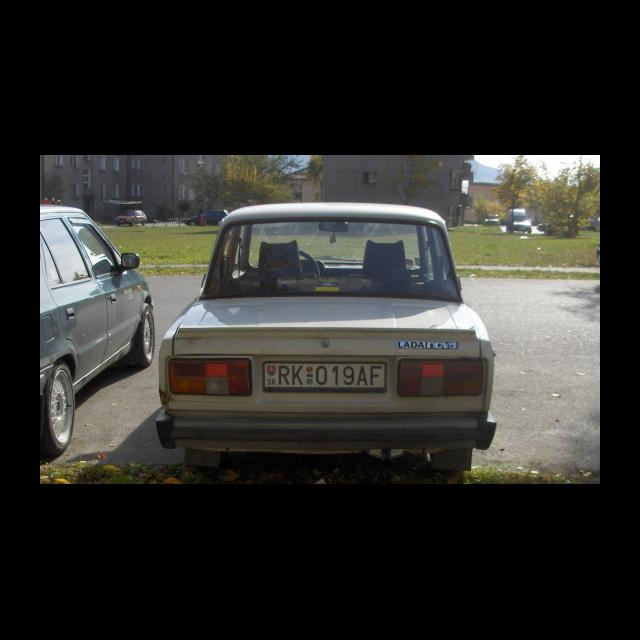Plate: (261, 358, 388, 392)
